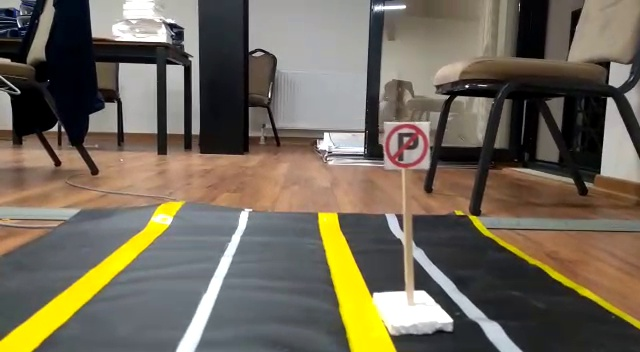park_yapilmaz: (382, 122, 429, 167)
